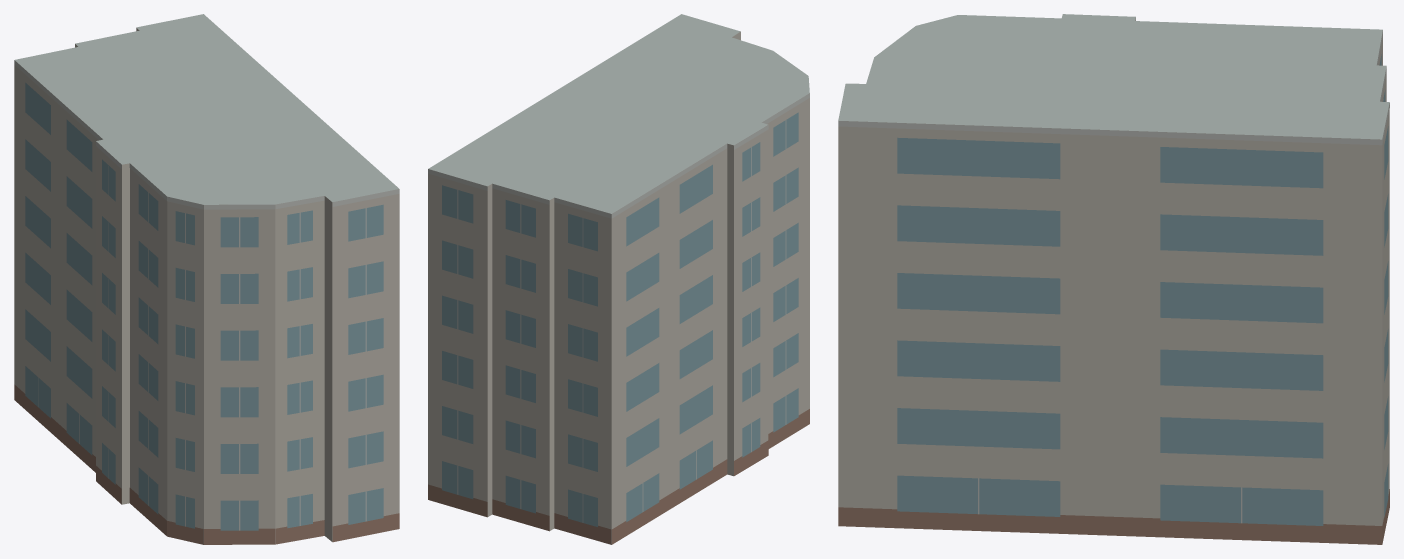
File: survey-upis-32656079.glb
3 renders of one model, left to right at view 1: azimuth 30°, elevation 25°; view 2: azimuth 150°, elevation 25°; view 3: azimuth 270°, elevation 25°, orthographic. The views are drawn at different scales.
Visible parts, largest first — view 1: survey-upis-32656079.tmp; view 2: survey-upis-32656079.tmp; view 3: survey-upis-32656079.tmp.
Part boxes in pixels (box(x1,y1,x2,y2)): survey-upis-32656079.tmp: box(14, 14, 399, 544); survey-upis-32656079.tmp: box(428, 14, 809, 544); survey-upis-32656079.tmp: box(838, 14, 1389, 544).
Size of the model in its own units: 11.5 by 17.3 by 21.34.
